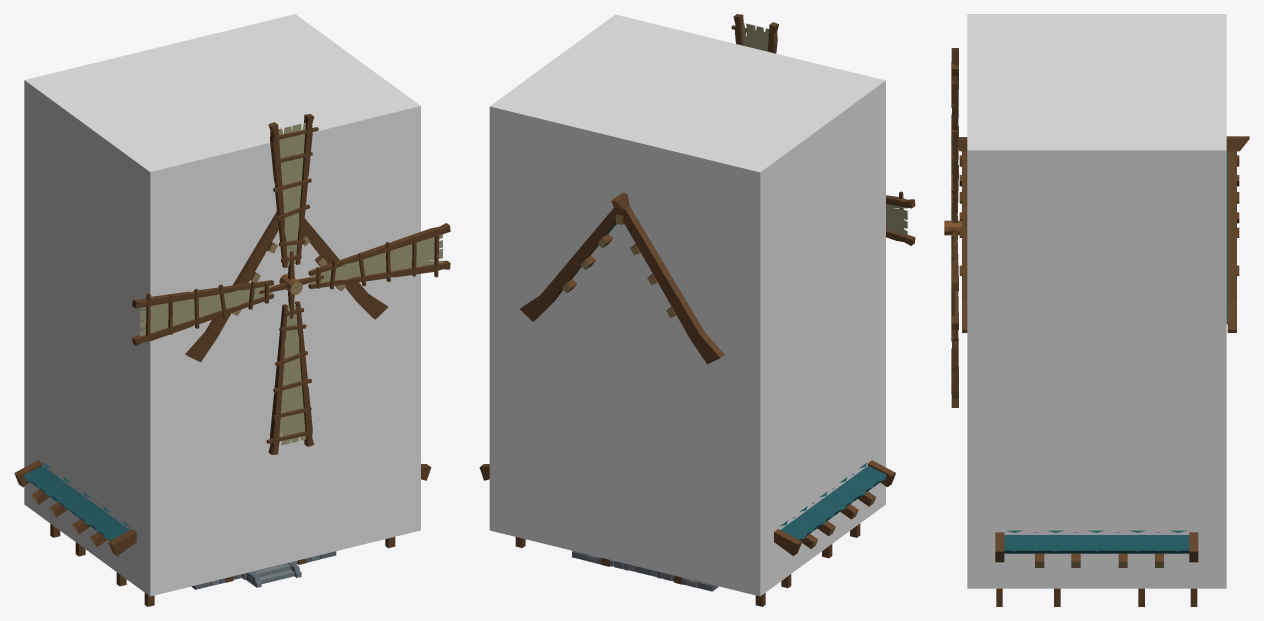
File: cc0_windmill.glb
The picture shows the model from 3 angles, left to right: view 1: azimuth 30°, elevation 25°; view 2: azimuth 150°, elevation 25°; view 3: azimuth 270°, elevation 25°; orthographic projection. The views are drawn at different scales.
Visible parts, largest first — view 1: COL_Solid_Windmill, Mill_Blades, Mill; view 2: COL_Solid_Windmill, Mill, Mill_Blades; view 3: COL_Solid_Windmill, Mill, Mill_Blades.
Boxes of the visible parts, x1,y1,x2,y2 form: COL_Solid_Windmill: (24, 14, 420, 596); Mill_Blades: (132, 114, 450, 454); Mill: (14, 211, 431, 606); COL_Solid_Windmill: (489, 14, 885, 596); Mill: (479, 192, 895, 606); Mill_Blades: (731, 14, 915, 245); COL_Solid_Windmill: (967, 14, 1226, 588); Mill: (958, 136, 1249, 606); Mill_Blades: (944, 48, 961, 407).
Bounding box in the file's own units: 6.93 × 9.8 × 5.57.
Materials: 1 (1 with a texture image).
